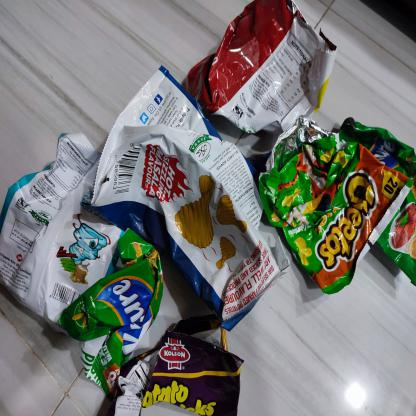Garbage: (26, 20, 416, 416)
